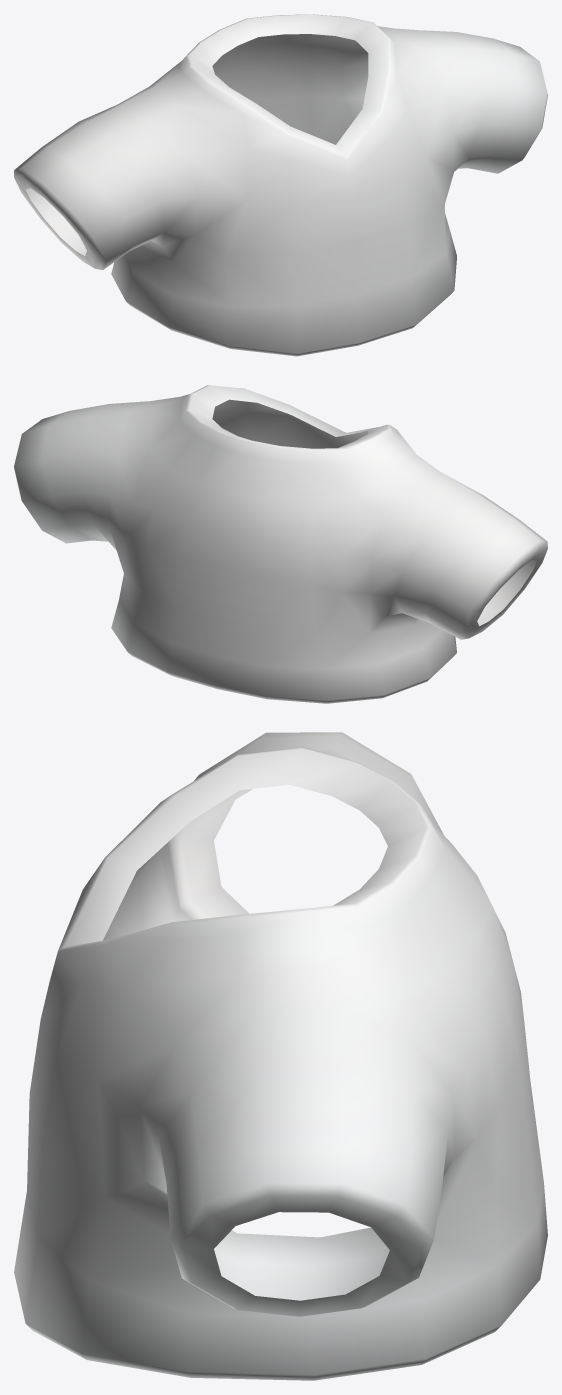
The model's file is Outwear_19.glb.
The picture shows the model from 3 angles, top to bottom: view 1: azimuth 30°, elevation 25°; view 2: azimuth 150°, elevation 25°; view 3: azimuth 270°, elevation 25°; orthographic projection. The views are drawn at different scales.
Parts seen in each view (by area): view 1: Outwear_19; view 2: Outwear_19; view 3: Outwear_19.
Boxes of the visible parts, x1,y1,x2,y2 form: Outwear_19: (14, 14, 547, 356); Outwear_19: (14, 385, 547, 703); Outwear_19: (14, 732, 547, 1380).
Size of the model in its own units: 0.4045 by 0.1897 by 0.2023.
Materials: 1 (1 with a texture image).
